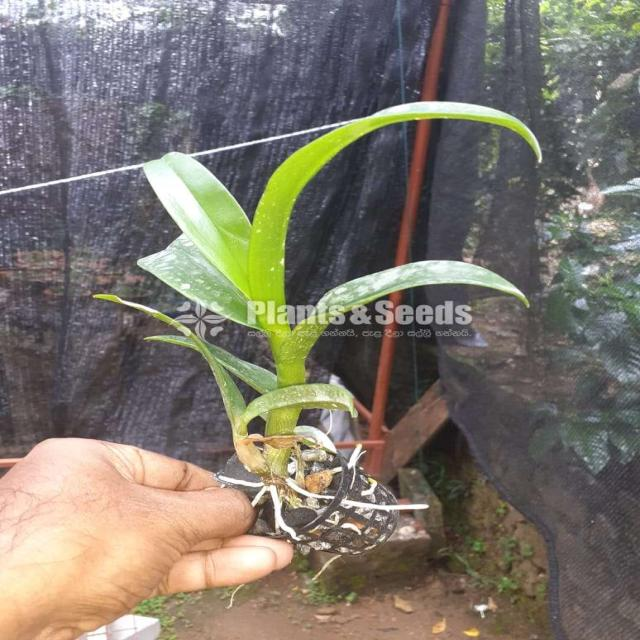leaf: (247, 102, 539, 300), (145, 153, 251, 298), (310, 260, 528, 324), (139, 235, 253, 326), (241, 383, 356, 422), (206, 343, 276, 393)
plant: (78, 89, 560, 569)
pot: (207, 436, 406, 561)
root: (283, 480, 428, 511), (253, 484, 299, 541), (331, 443, 365, 475), (213, 473, 263, 487), (359, 477, 379, 497), (338, 523, 362, 536), (322, 514, 340, 524)
stem: (262, 322, 326, 481), (94, 295, 194, 336), (229, 395, 267, 474)
